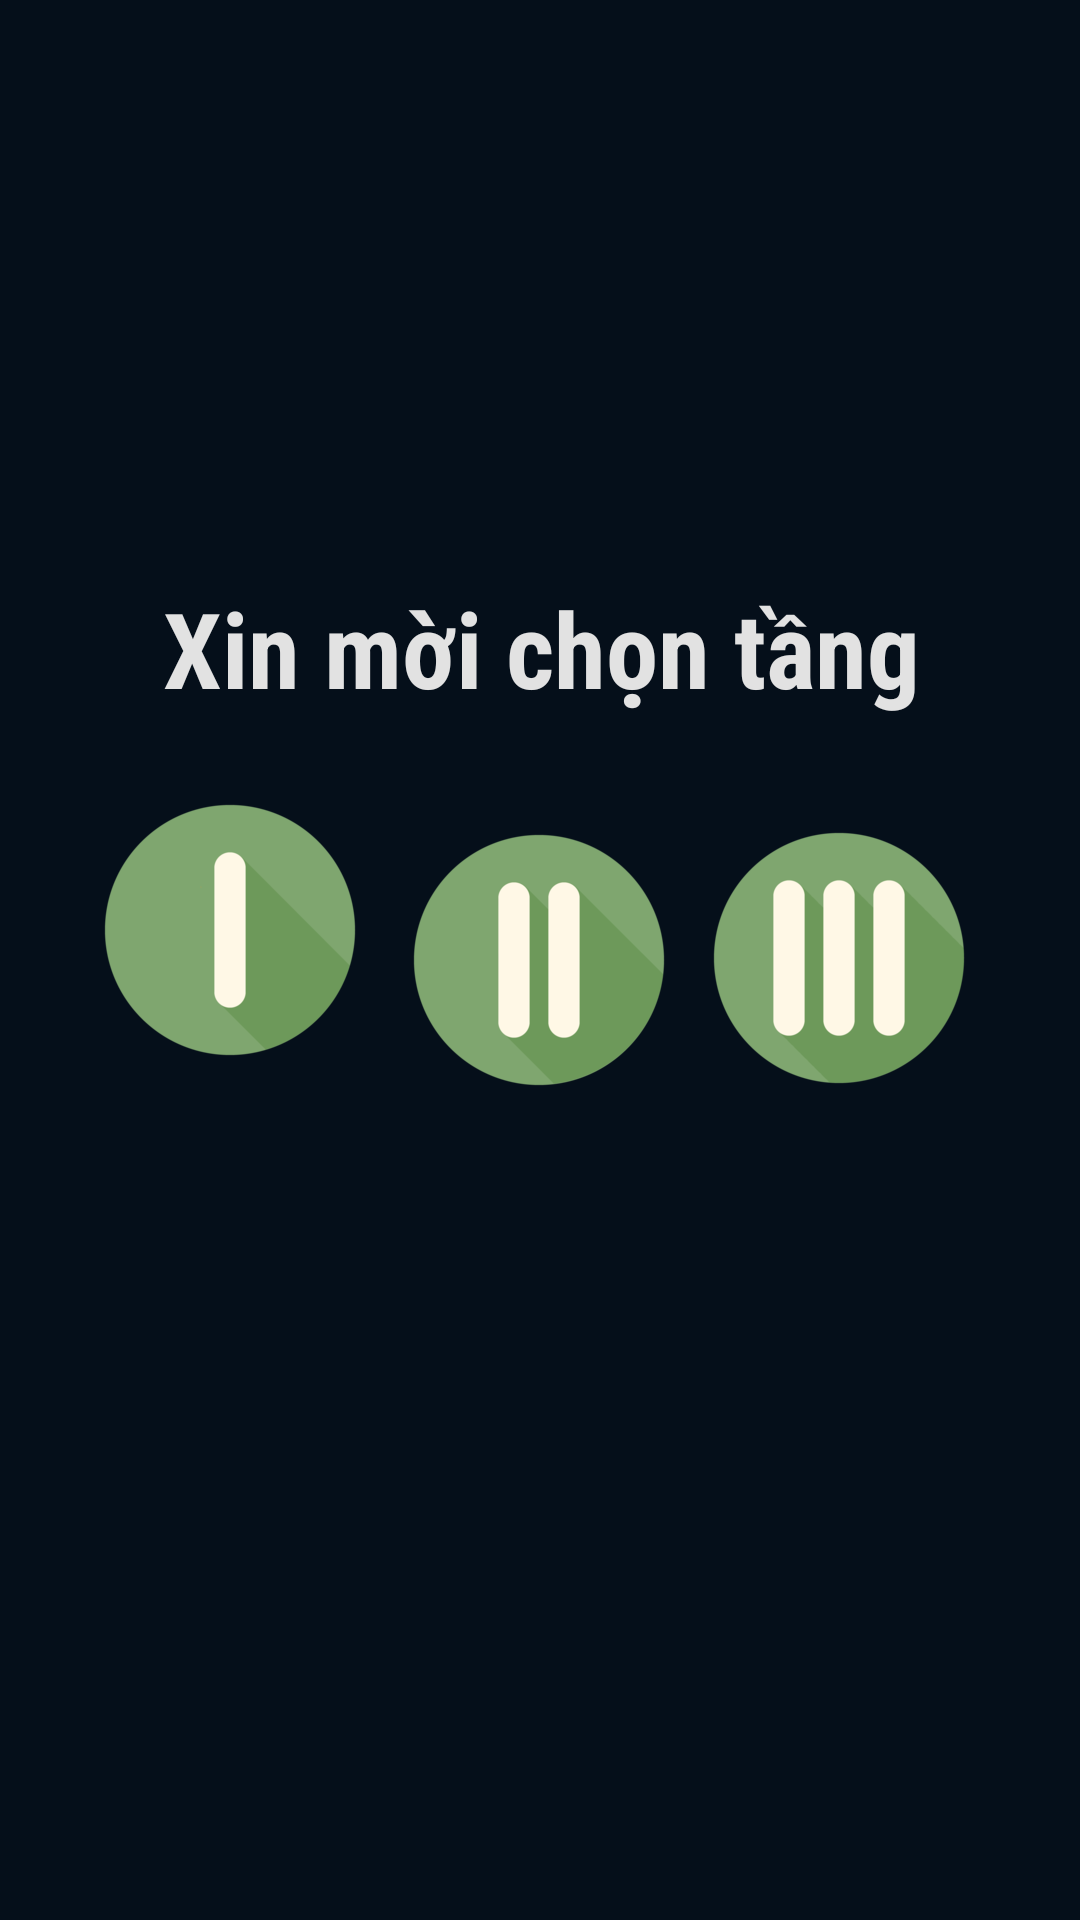

Named icons in this screenshot (1080x1920) and their bounding boxes, [x1,y1,x2,y2]:
tang: [105,805,355,1055], [714,833,964,1083], [414,835,664,1085]
